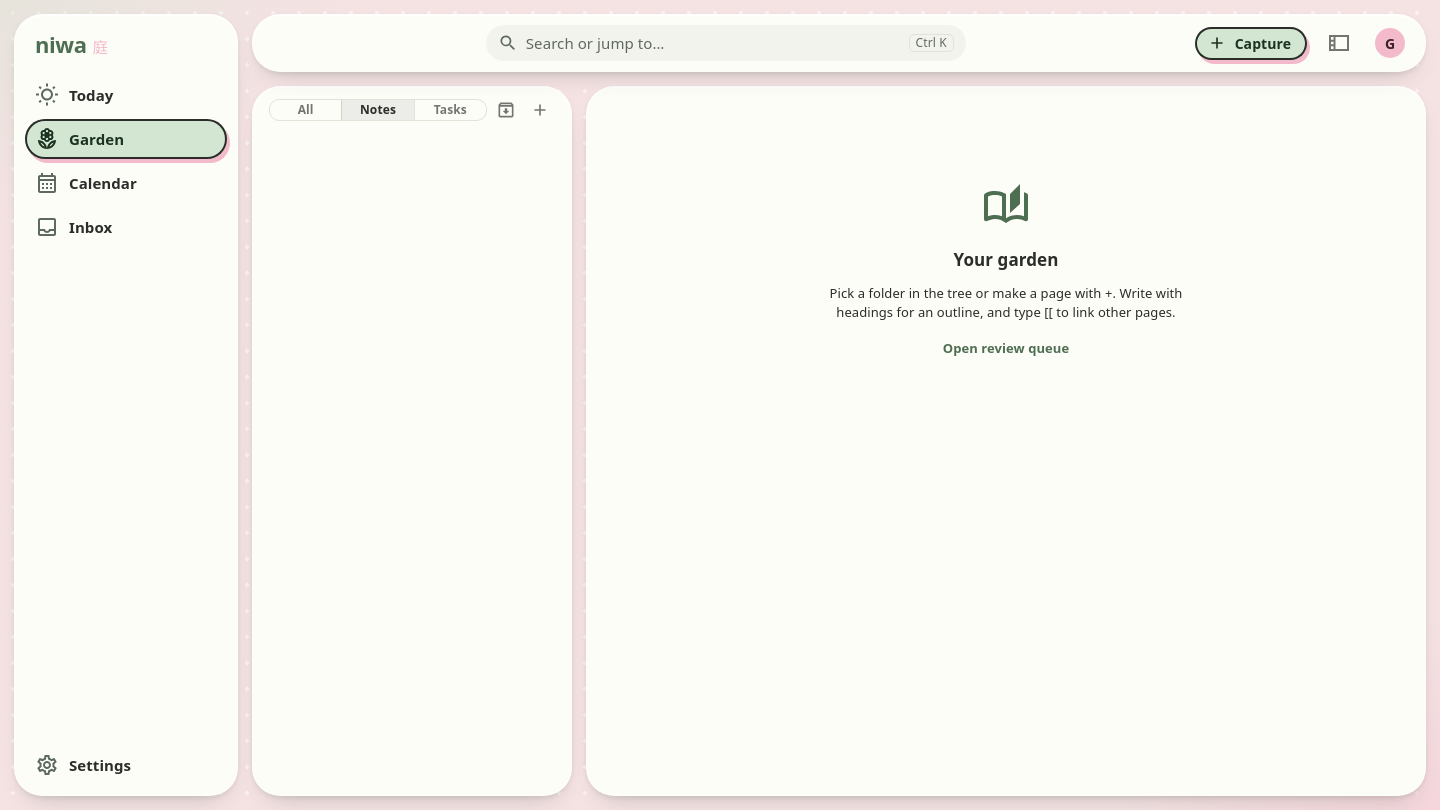
Test case: app shell › opens and closes the detail panel
Click the button named "Toggle detail panel". click: (1339, 43)
box: top-left (1319, 23), bottom-right (1359, 63)
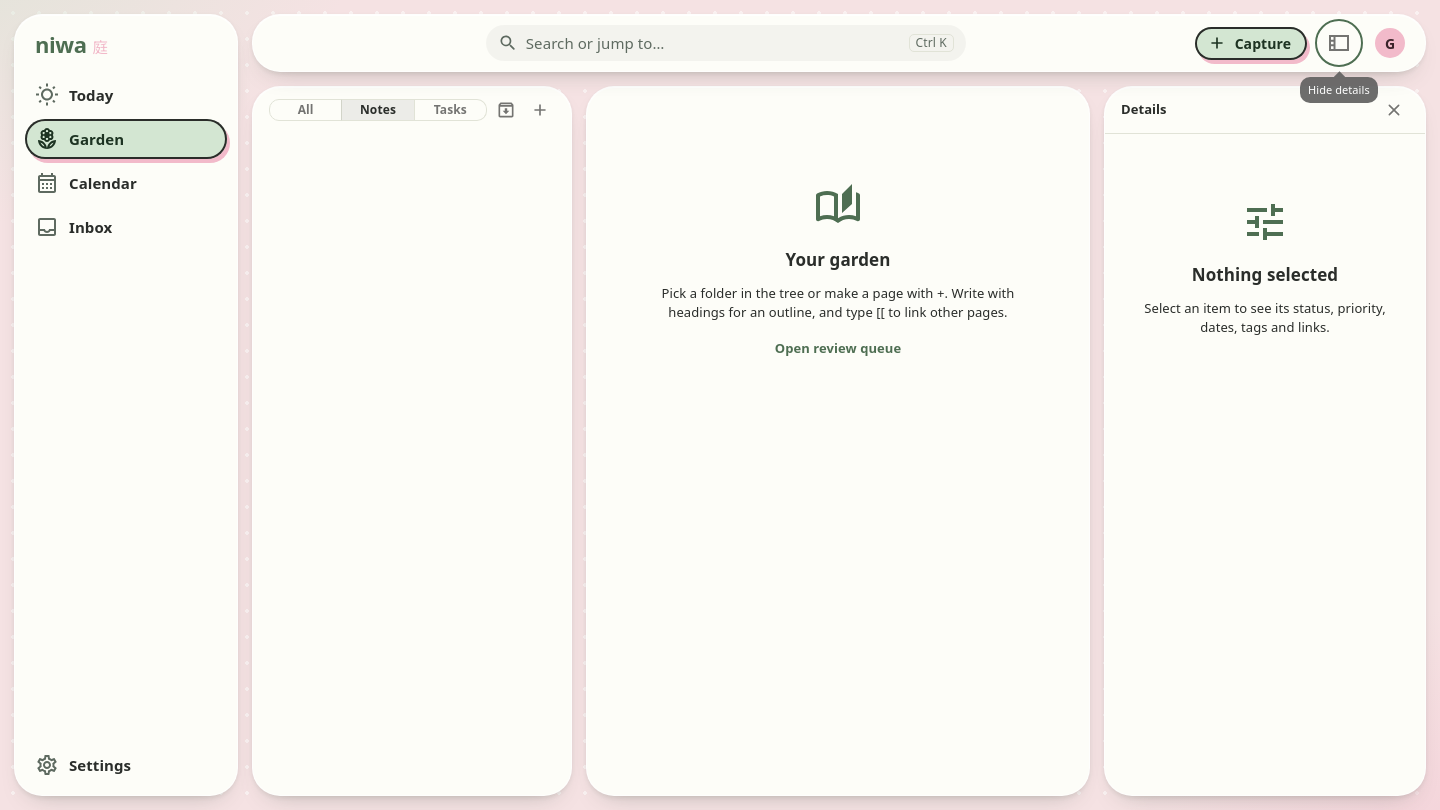
expect the text "Nothing selected" is shown: met, box top-left (1192, 264), bottom-right (1338, 287)
Click the button named "Close details". click: (1394, 110)
box: top-left (1379, 95), bottom-right (1409, 125)
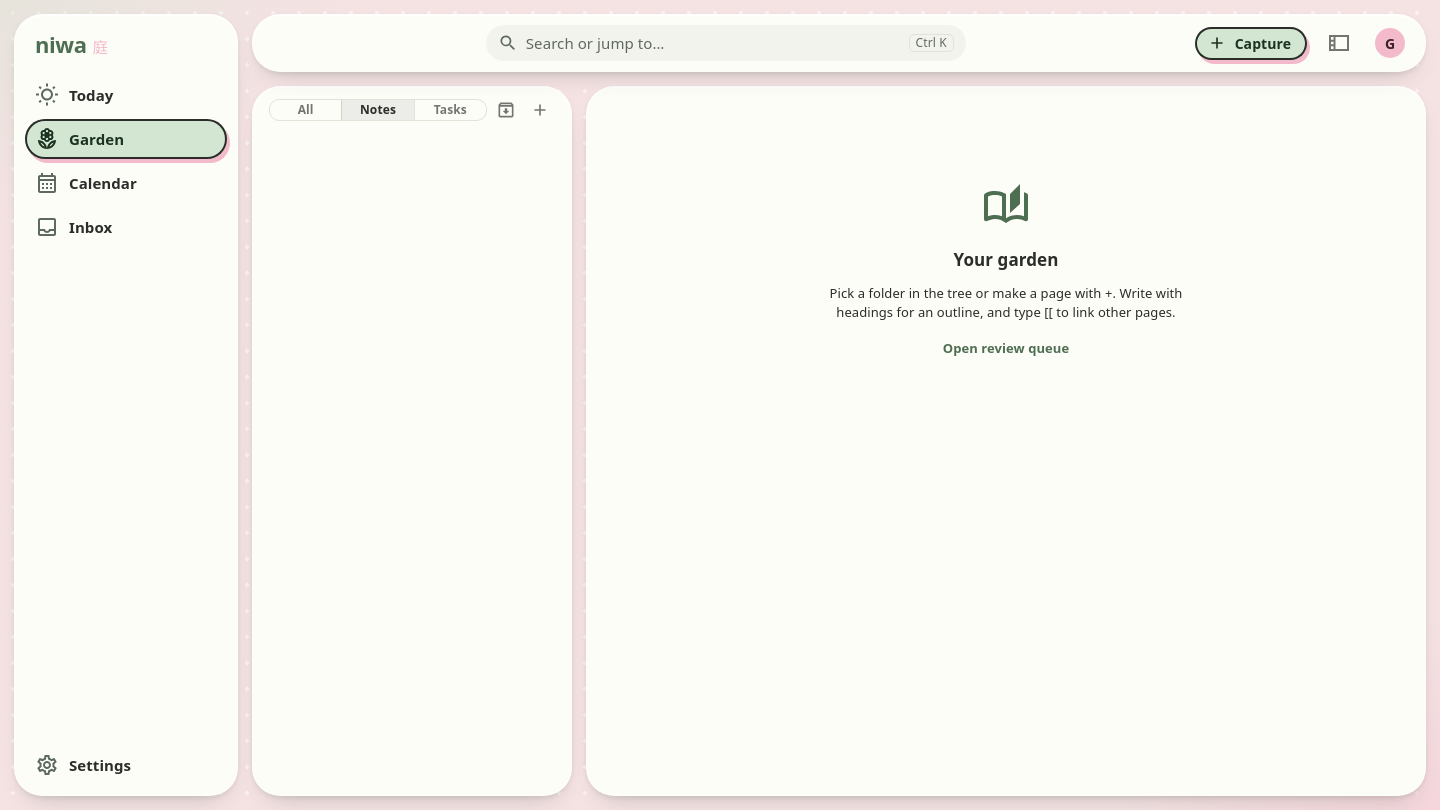
expect the text "Nothing selected" is gone: met
